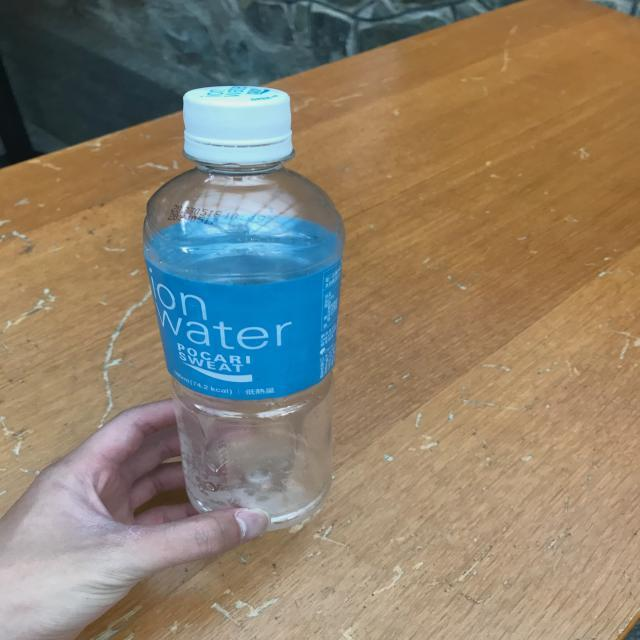plastic_bottle: (142, 86, 346, 532)
